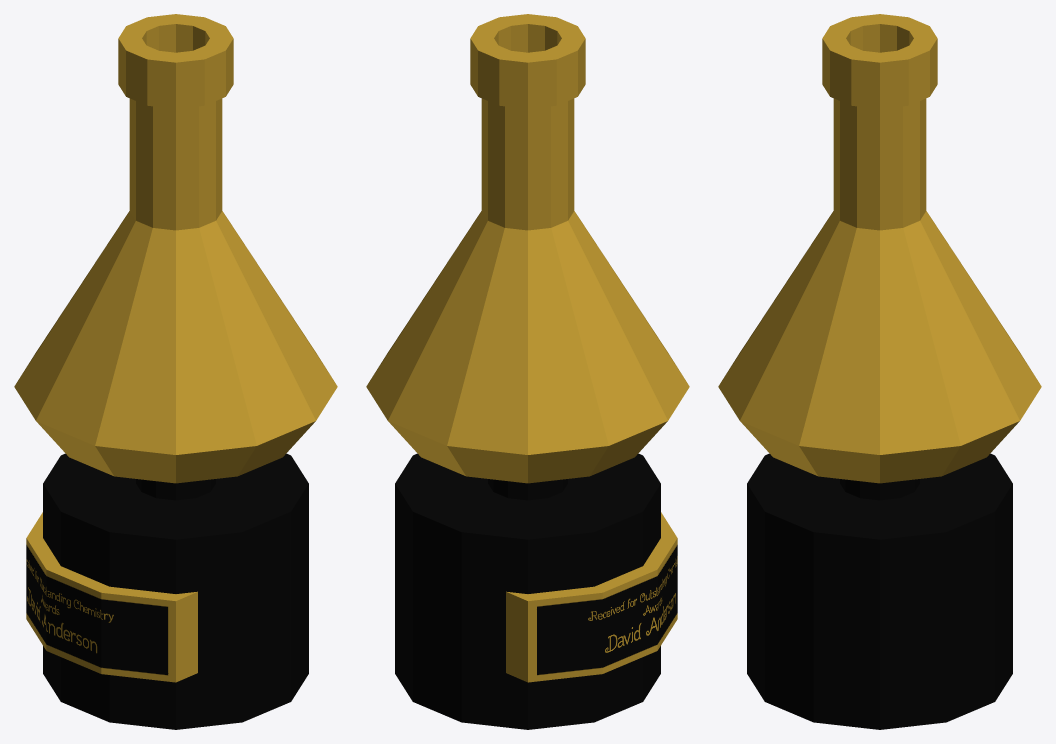
Rendered from Award.fbx.
3 renders of one model, left to right at view 1: azimuth 30°, elevation 25°; view 2: azimuth 150°, elevation 25°; view 3: azimuth 270°, elevation 25°, orthographic.
Visible parts, largest first — view 1: Test Tube, Foundation, Nameplate, Pipe; view 2: Test Tube, Foundation, Nameplate, Pipe; view 3: Test Tube, Foundation, Pipe.
Part boxes in pixels (x1,y1,x2,y2): Test Tube: (14, 14, 337, 483); Foundation: (43, 453, 308, 729); Nameplate: (26, 512, 197, 682); Pipe: (136, 479, 215, 500); Test Tube: (366, 14, 689, 483); Foundation: (395, 453, 660, 729); Nameplate: (506, 512, 677, 682); Pipe: (488, 479, 567, 500); Test Tube: (718, 14, 1041, 483); Foundation: (747, 453, 1012, 729); Pipe: (840, 479, 919, 500).
Bounding box in the file's own units: 243 × 527 × 243.
